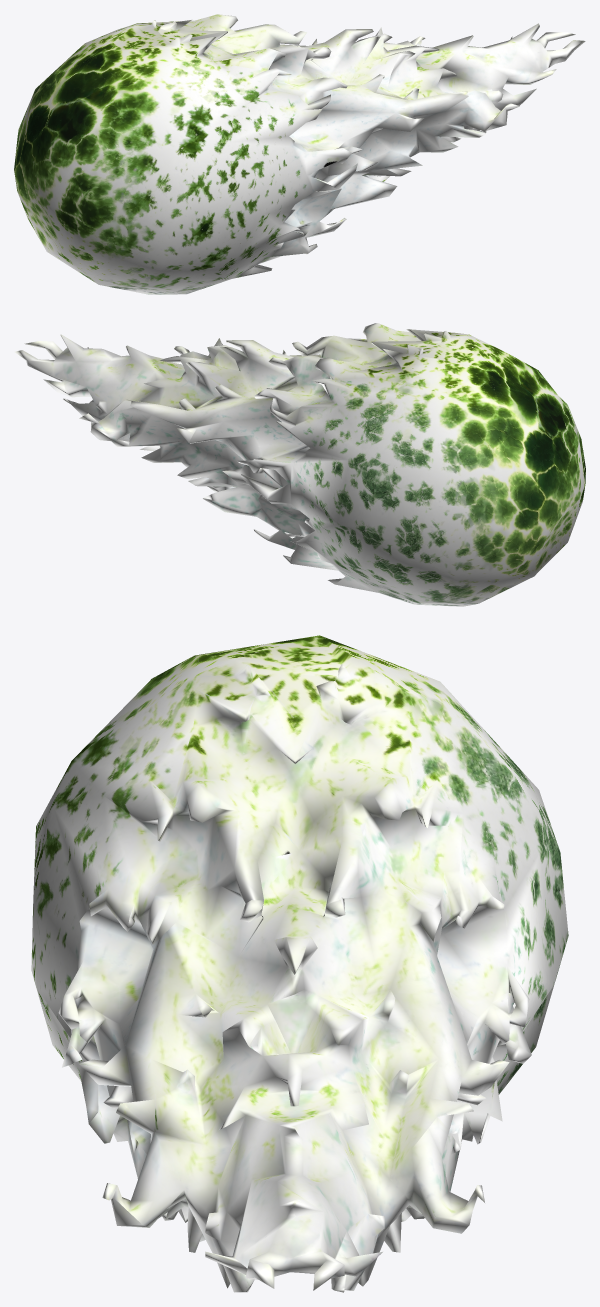
File: Poison.glb
The picture shows the model from 3 angles, top to bottom: view 1: azimuth 30°, elevation 25°; view 2: azimuth 150°, elevation 25°; view 3: azimuth 270°, elevation 25°; orthographic projection. The views are drawn at different scales.
Visible parts, largest first — view 1: Mesh1.0; view 2: Mesh1.0; view 3: Mesh1.0.
Boxes of the visible parts, x1,y1,x2,y2 form: Mesh1.0: (14, 14, 585, 294); Mesh1.0: (14, 323, 585, 606); Mesh1.0: (31, 635, 568, 1292).
Bounding box in the file's own units: 1.91 × 0.8445 × 0.8077.
Materials: 1 (1 with a texture image).
